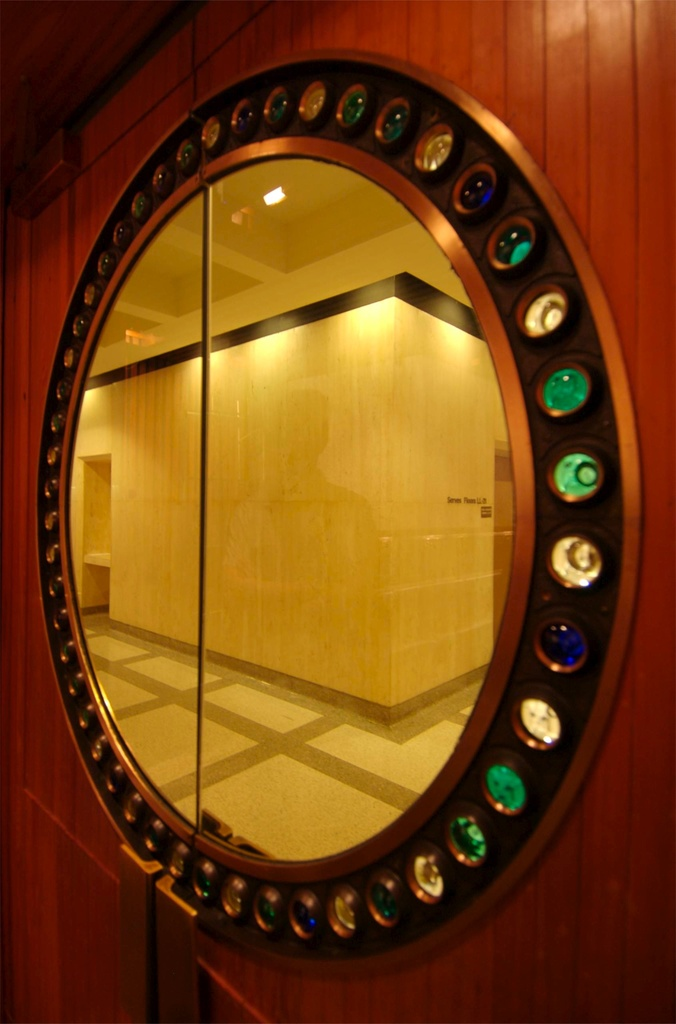person: (218, 383, 386, 700)
